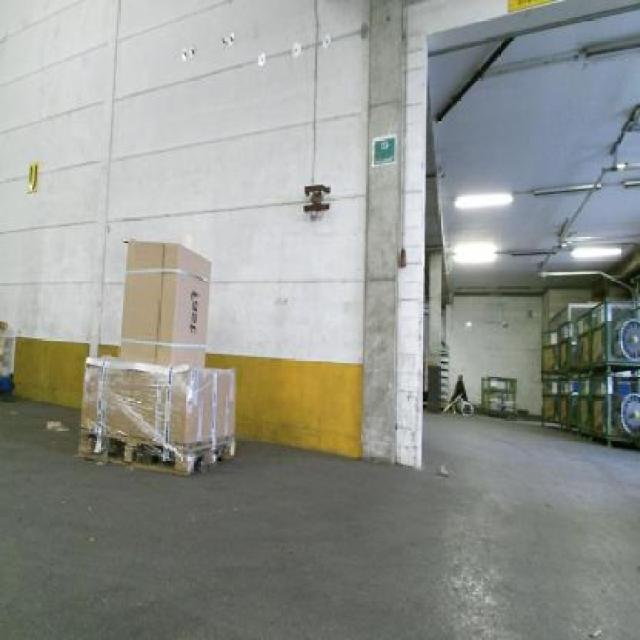ground: (0, 395, 638, 638)
pallet: (70, 423, 239, 482)
